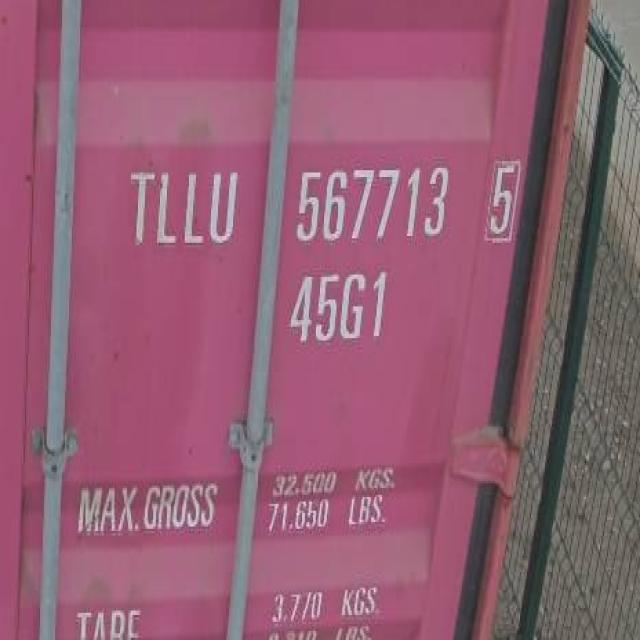dv: (482, 150, 520, 257)
owner: (121, 158, 242, 258)
serial: (282, 148, 452, 250)
size: (282, 262, 399, 356)
